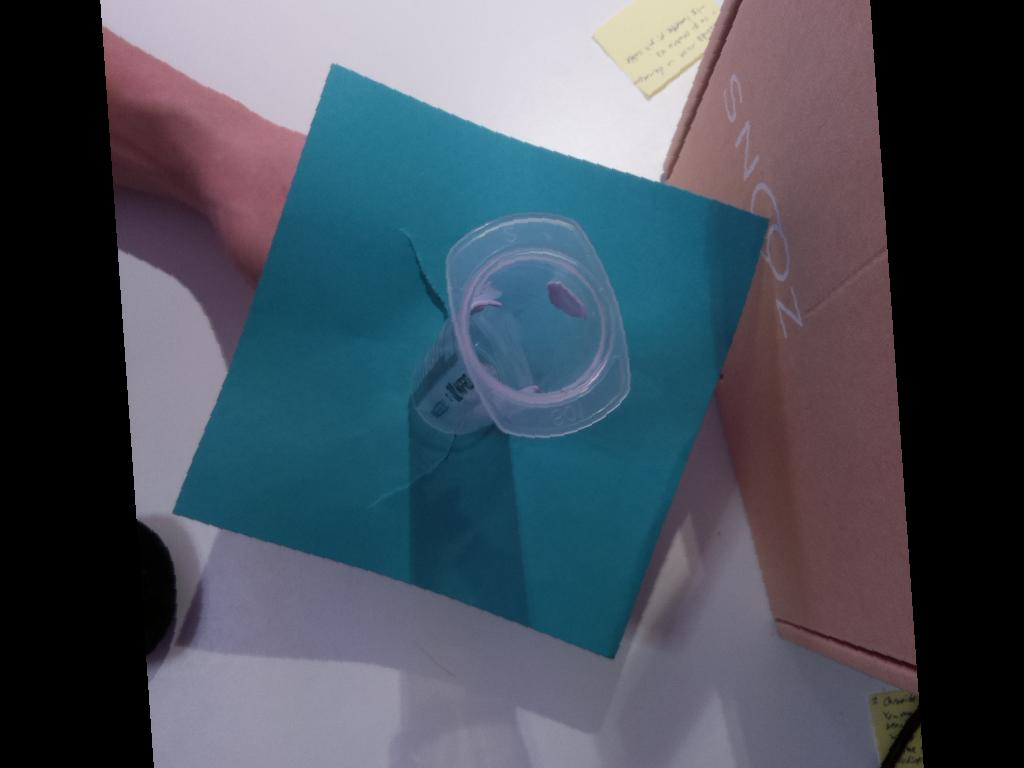dirty: (445, 212, 632, 437)
